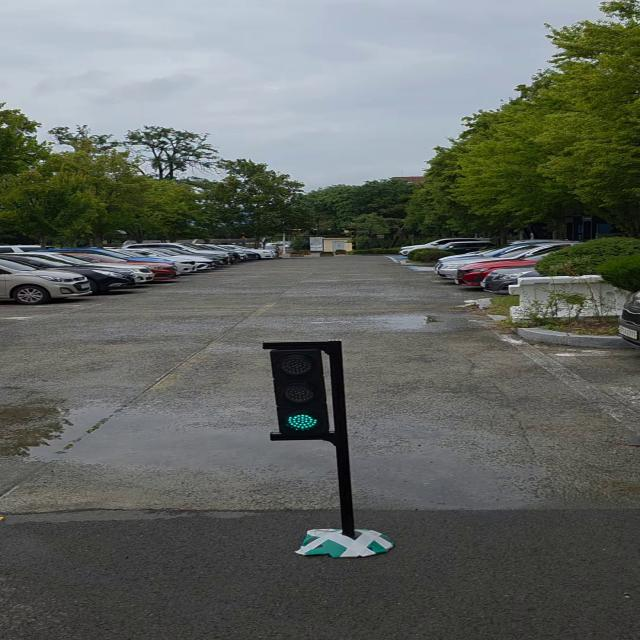green: (271, 347, 328, 438)
